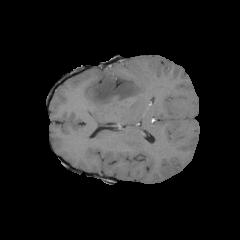glioma: (87, 69, 142, 110)
